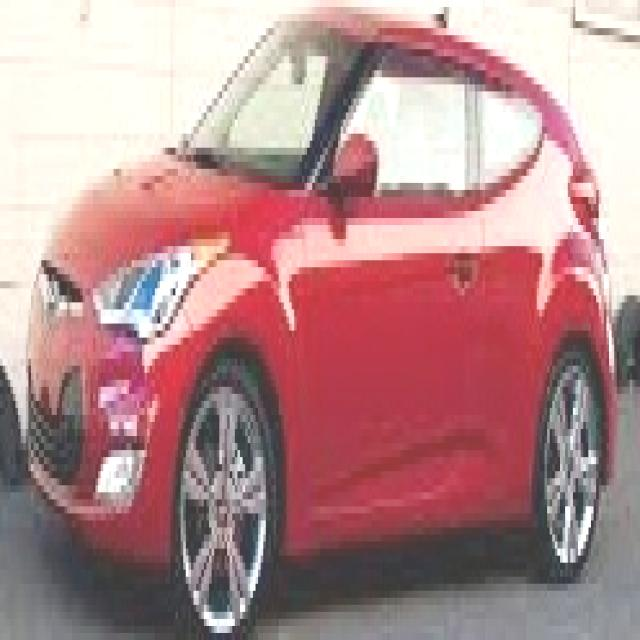red: (24, 19, 622, 598)
